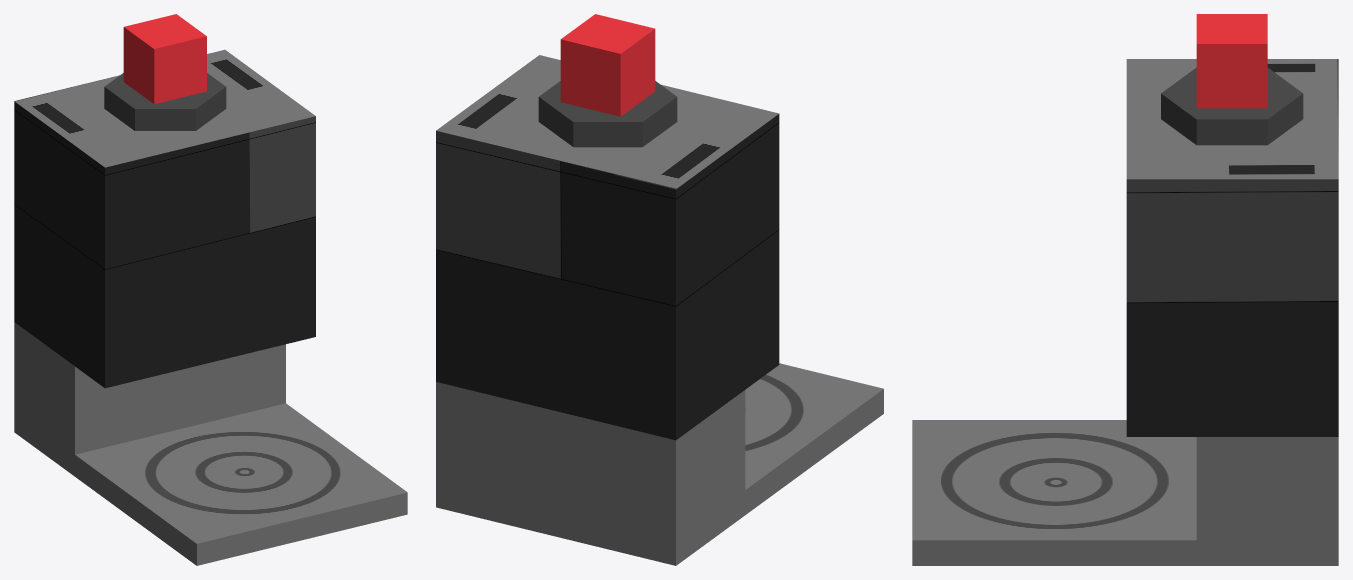
Rendered from Factory.gltf.
The picture shows the model from 3 angles, left to right: view 1: azimuth 30°, elevation 25°; view 2: azimuth 150°, elevation 25°; view 3: azimuth 270°, elevation 25°; orthographic projection. The views are drawn at different scales.
Visible parts, largest first — view 1: Cube; view 2: Cube; view 3: Cube.
Part boxes in pixels (x1,y1,x2,y2): Cube: (14, 14, 407, 565); Cube: (436, 14, 883, 565); Cube: (912, 14, 1338, 565).
Bounding box in the file's own units: 0.5405 × 1 × 0.8108.
1 material, 1 textured.
